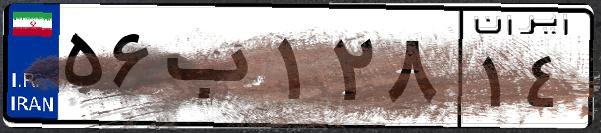1: (270, 28, 330, 110), (475, 38, 525, 113)
2: (330, 28, 385, 110)
4: (525, 38, 570, 115)
5: (57, 26, 110, 100)
6: (110, 28, 158, 98)
8: (385, 28, 445, 110)
ب: (158, 20, 270, 120)
